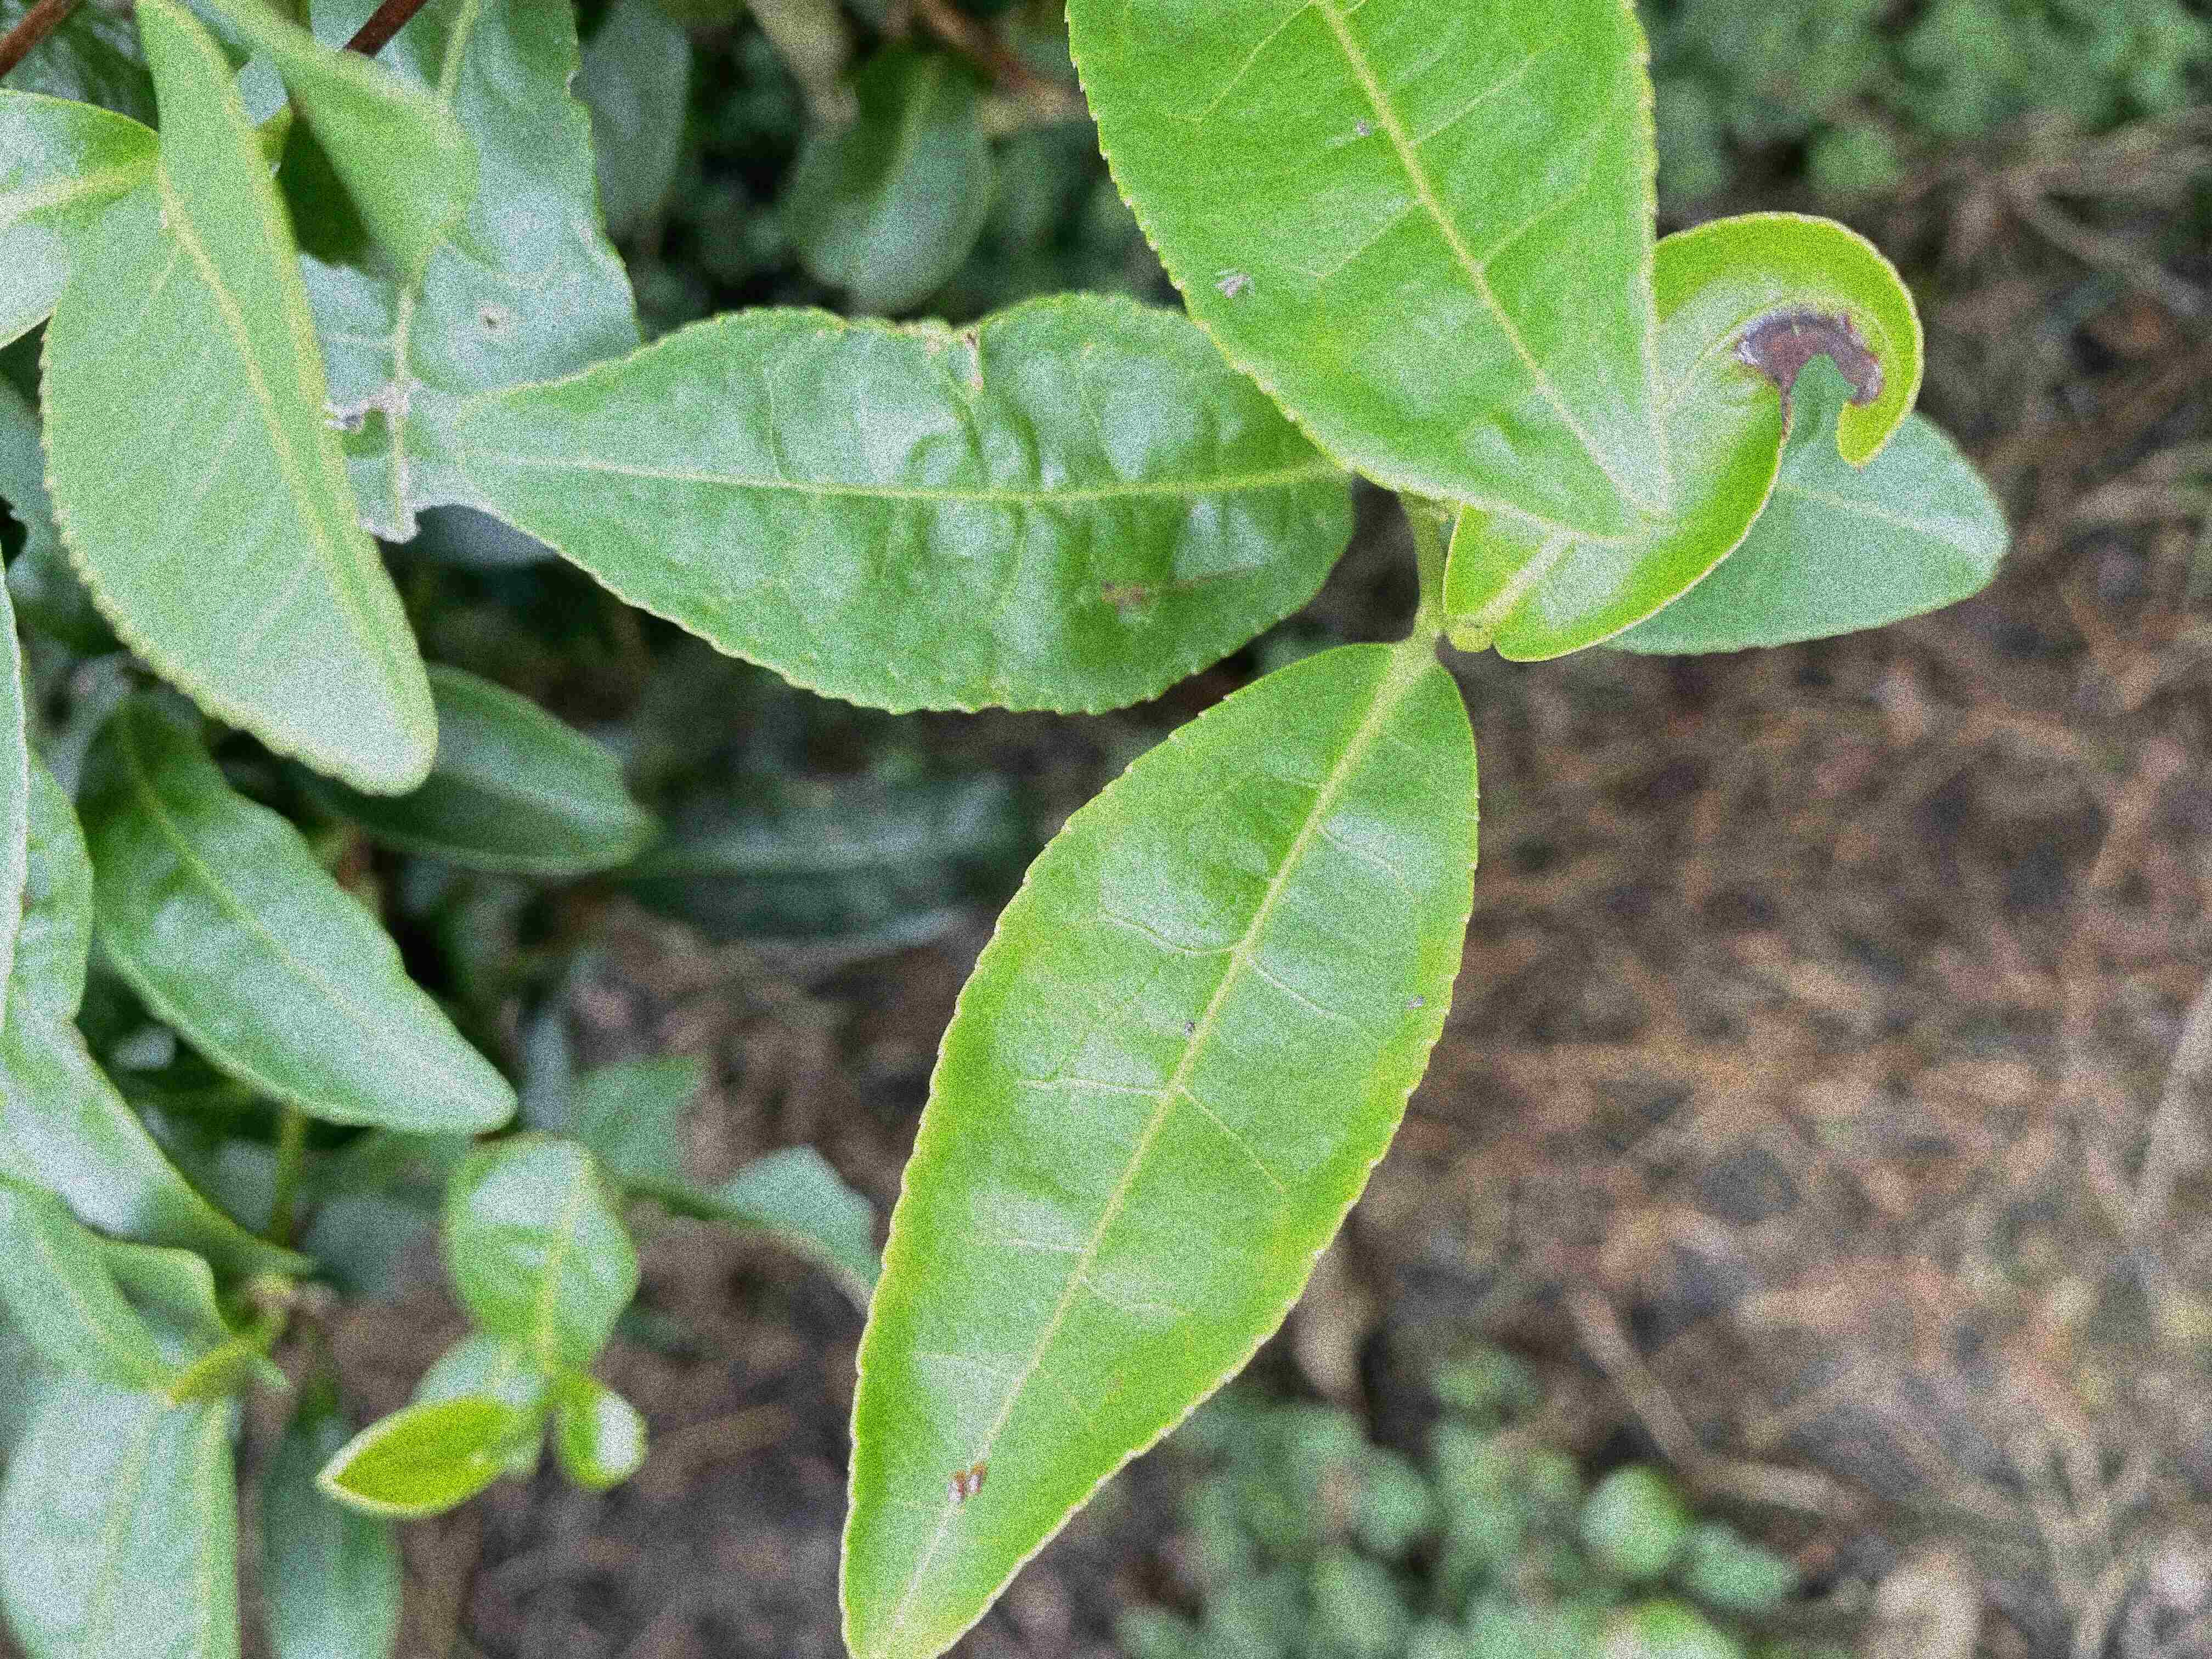tanju_high: (1444, 211, 1923, 666)
tanju_low: (833, 636, 1480, 1656)
